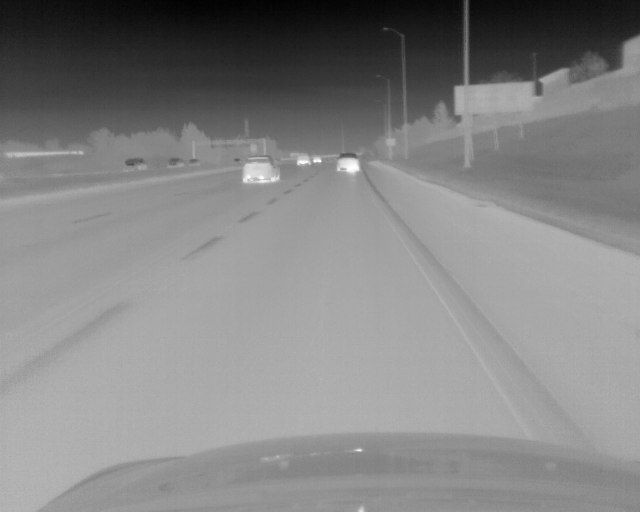car: (242, 157, 280, 184), (337, 153, 360, 172), (123, 157, 147, 170), (296, 154, 311, 166), (167, 158, 184, 168), (188, 158, 200, 166), (313, 155, 321, 162)
